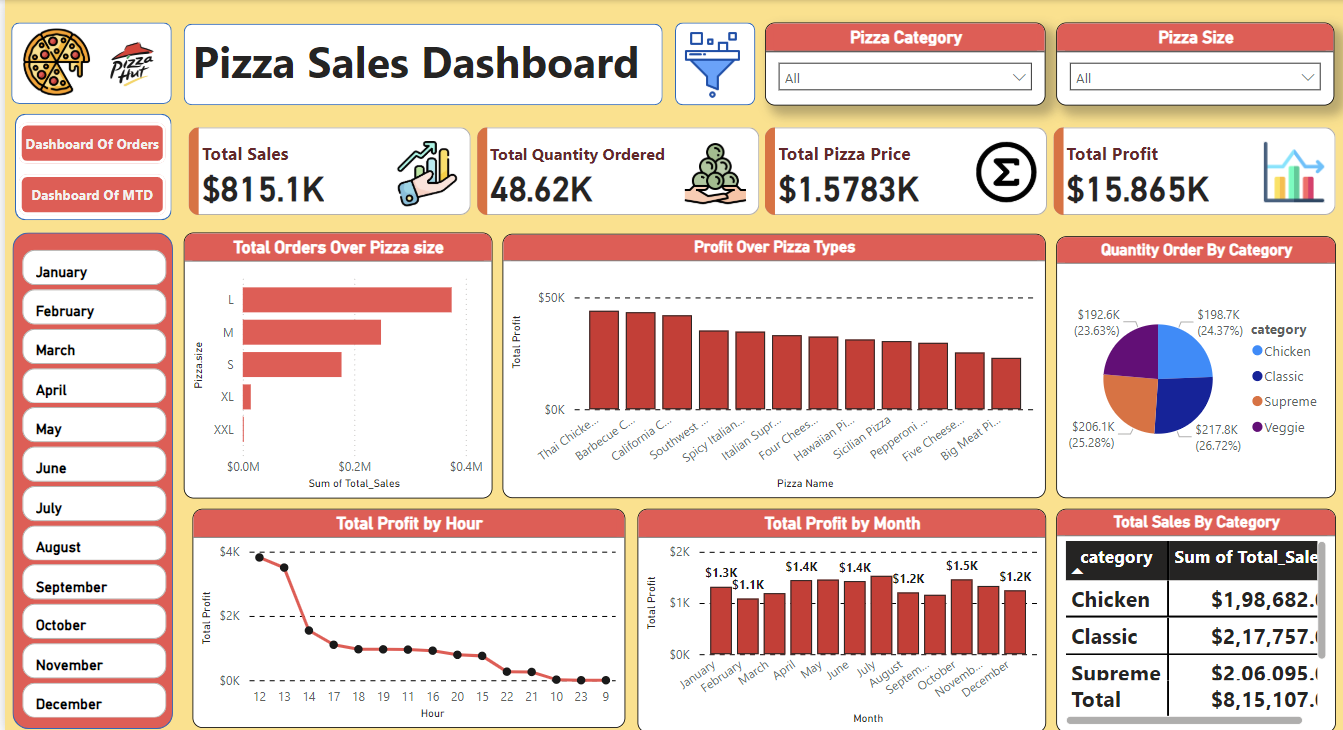

Layout of this report page (visuals, bound fields, positions):
{"tool":"powerbi","page":{"name":"Dashboard Of Sales","canvas":[1329,728],"ordinal":1},"visuals":[{"type":"shape","box":[7.5,230.2,159.3,492.8],"z":0},{"type":"advancedSlicerVisual","fields":{"Values":["Orders.date.Variation.Date Hierarchy.Month"]},"box":[12.4,242.7,153.1,475.4],"z":1000},{"type":"slicer","title":"Pizza  Category","fields":{"Values":["Pizza_Type.category"]},"box":[754.1,22.4,278.7,82.1],"z":2000},{"type":"slicer","title":"Pizza  Size","fields":{"Values":["Pizza.size"]},"box":[1042.8,22.4,276.3,82.1],"z":3000},{"type":"cardVisual","fields":{"Data":["Sum(Order_Details.Total_Sales)","CountNonNull(Order_Details.quantity)","Sum(Pizza.price)","Order_Details.Total Profit"]},"box":[177.9,121.9,1151.1,97.1],"z":4000},{"type":"clusteredBarChart","title":"Total Orders Over Pizza size","fields":{"Category":["Order_Details.Pizza.size"],"Y":["Sum(Order_Details.Total_Sales)"]},"box":[177.9,230.2,306.1,263.8],"z":5000},{"type":"clusteredColumnChart","title":"Profit Over Pizza Types","fields":{"Category":["Pizza_Type.name"],"Y":["Sum(Order_Details.Total_Sales)"]},"box":[494,231.5,538.8,262.6],"z":6000},{"type":"pieChart","title":"Quantity Order By Category","fields":{"Category":["Pizza_Type.category"],"Y":["Sum(Order_Details.Total_Sales)"]},"box":[1042.8,233.9,277.5,260.1],"z":7000},{"type":"lineChart","fields":{"Category":["Orders.Hour"],"Y":["Order_Details.Total Profit"]},"box":[186.7,505.2,429.3,217.8],"z":8000},{"type":"clusteredColumnChart","fields":{"Category":["Orders.date.Variation.Date Hierarchy.Month"],"Y":["Order_Details.Total Profit"]},"box":[627.2,505.2,405.7,222.7],"z":9000},{"type":"shape","box":[6.2,22.4,159.3,80.9],"z":10000},{"type":"image","box":[12.4,23.6,77.2,75.9],"z":11000},{"type":"shape","box":[177.9,23.6,475.4,80.9],"z":12000},{"type":"shape","box":[664.5,22.4,79.6,82.1],"z":13000},{"type":"image","box":[663.3,26.1,77.2,77.2],"z":14000},{"type":"textbox","box":[181.7,26.1,466.6,74.7],"z":15000},{"type":"image","box":[85.9,22.4,80.9,82.1],"z":16000},{"type":"tableEx","title":"Total Sales By Category","fields":{"Values":["Pizza_Type.category","Sum(Order_Details.Total_Sales)"]},"box":[1042.8,505.2,277.5,222.7],"z":17000},{"type":"shape","box":[10,113.2,155.5,105.8],"z":18000},{"type":"pageNavigator","box":[13.7,121.9,146.8,92.1],"z":19000}]}

Visuals, with their boxes in screenshot pixels (x1, y1, x2, y2), scaled from the page's 1329x728 canvas onto the 1343x730 screenshot:
shape: {"left": 8, "top": 231, "right": 169, "bottom": 725}
advancedSlicerVisual - Orders.date.Variation.Date Hierarchy.Month: {"left": 13, "top": 243, "right": 167, "bottom": 720}
"Pizza  Category" slicer: {"left": 762, "top": 22, "right": 1044, "bottom": 105}
"Pizza  Size" slicer: {"left": 1054, "top": 22, "right": 1333, "bottom": 105}
cardVisual - Sum(Order_Details.Total_Sales) x CountNonNull(Order_Details.quantity): {"left": 180, "top": 122, "right": 1342, "bottom": 220}
"Total Orders Over Pizza size" clusteredBarChart: {"left": 180, "top": 231, "right": 489, "bottom": 495}
"Profit Over Pizza Types" clusteredColumnChart: {"left": 499, "top": 232, "right": 1044, "bottom": 495}
"Quantity Order By Category" pieChart: {"left": 1054, "top": 235, "right": 1334, "bottom": 495}
lineChart - Orders.Hour x Order_Details.Total Profit: {"left": 189, "top": 507, "right": 622, "bottom": 725}
clusteredColumnChart - Orders.date.Variation.Date Hierarchy.Month x Order_Details.Total Profit: {"left": 634, "top": 507, "right": 1044, "bottom": 729}
shape: {"left": 6, "top": 22, "right": 167, "bottom": 104}
image: {"left": 13, "top": 24, "right": 91, "bottom": 100}
shape: {"left": 180, "top": 24, "right": 660, "bottom": 105}
shape: {"left": 672, "top": 22, "right": 752, "bottom": 105}
image: {"left": 670, "top": 26, "right": 748, "bottom": 104}
textbox: {"left": 184, "top": 26, "right": 655, "bottom": 101}
image: {"left": 87, "top": 22, "right": 169, "bottom": 105}
"Total Sales By Category" tableEx: {"left": 1054, "top": 507, "right": 1334, "bottom": 729}
shape: {"left": 10, "top": 114, "right": 167, "bottom": 220}
pageNavigator: {"left": 14, "top": 122, "right": 162, "bottom": 215}
